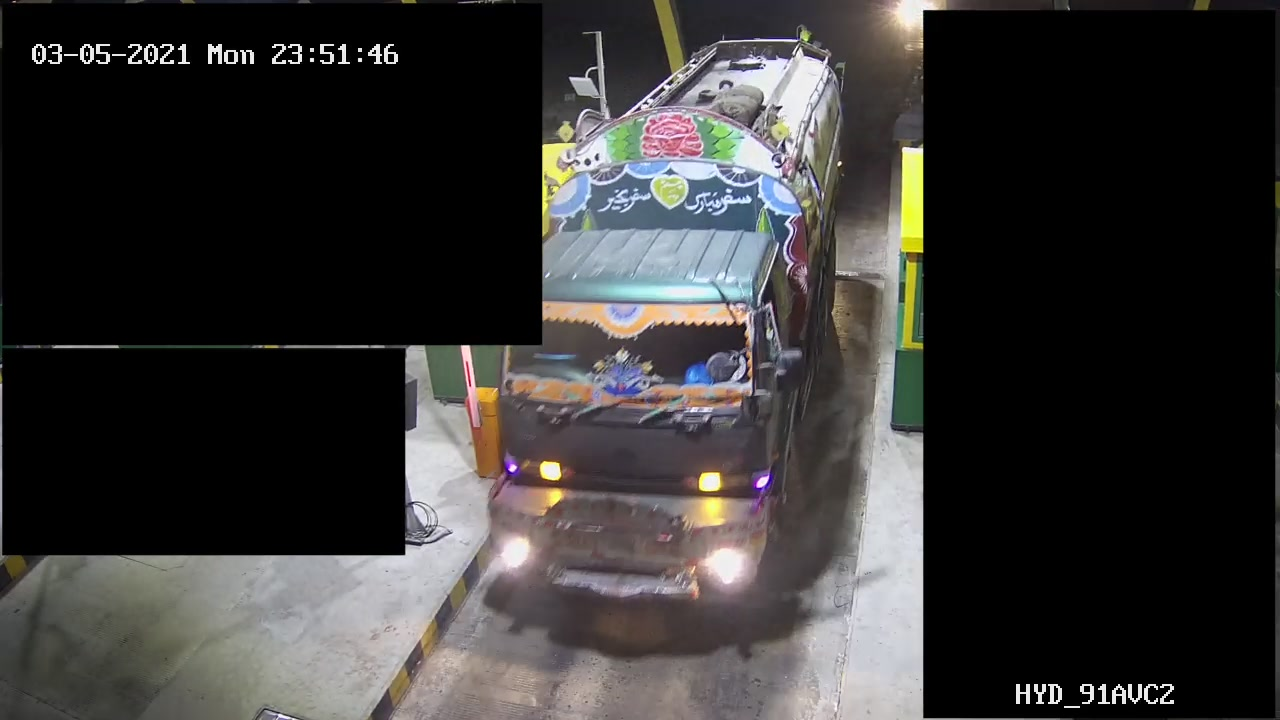F6: (482, 41, 858, 632)
